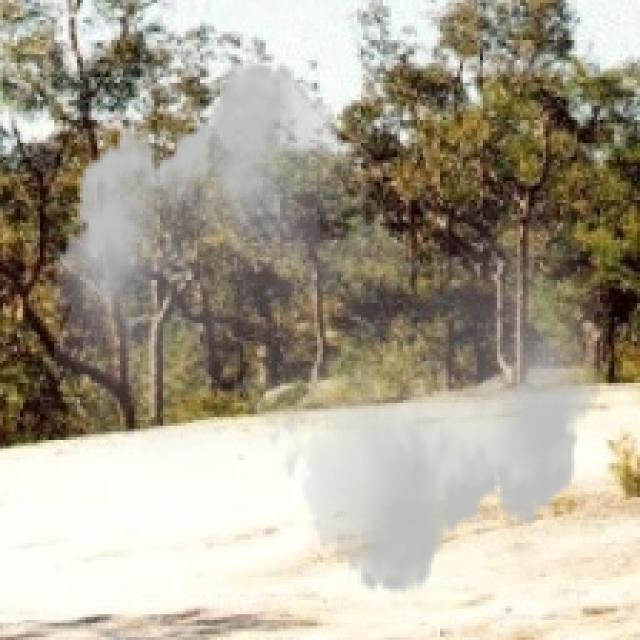Smoke: (46, 43, 608, 612)
